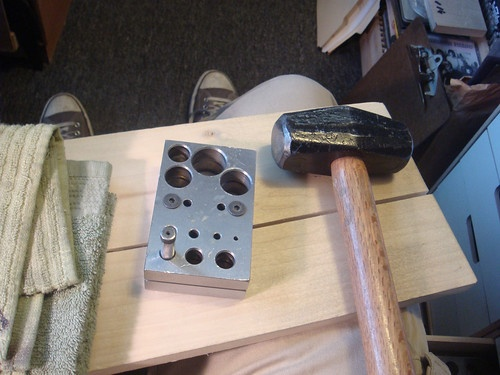hammer: (271, 103, 416, 373)
